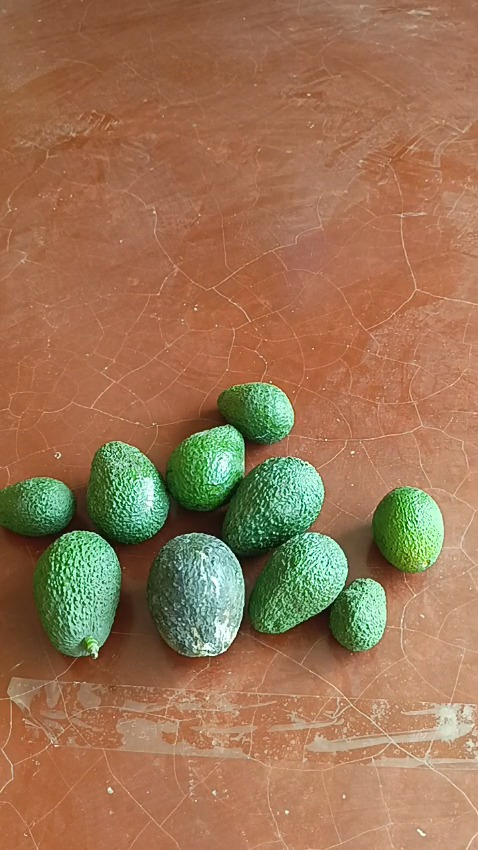Primera: (146, 533, 248, 657), (32, 529, 122, 657), (222, 457, 326, 556), (249, 533, 348, 634), (84, 443, 169, 546), (167, 427, 248, 513)
Segunda: (370, 486, 444, 573), (217, 381, 295, 442), (0, 478, 75, 537)
Tercera: (327, 577, 387, 651)
